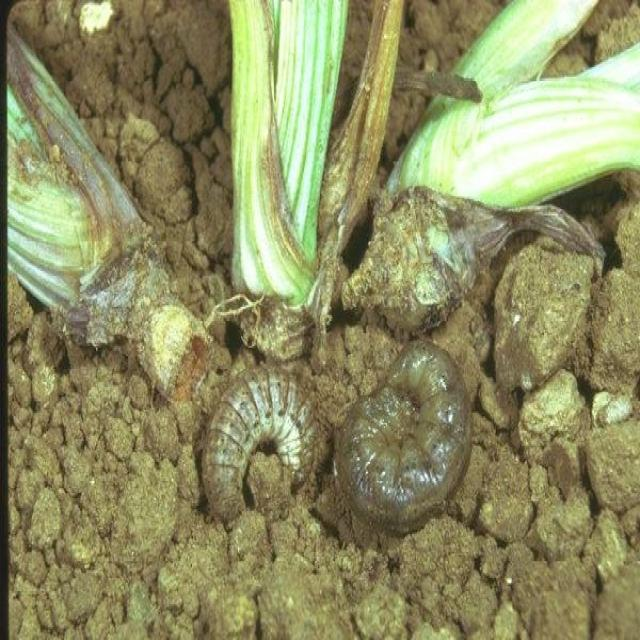black cutworm: (339, 347, 469, 533), (198, 353, 333, 514)
